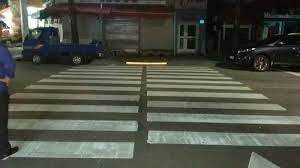guide_blocks: (126, 61, 167, 66)
